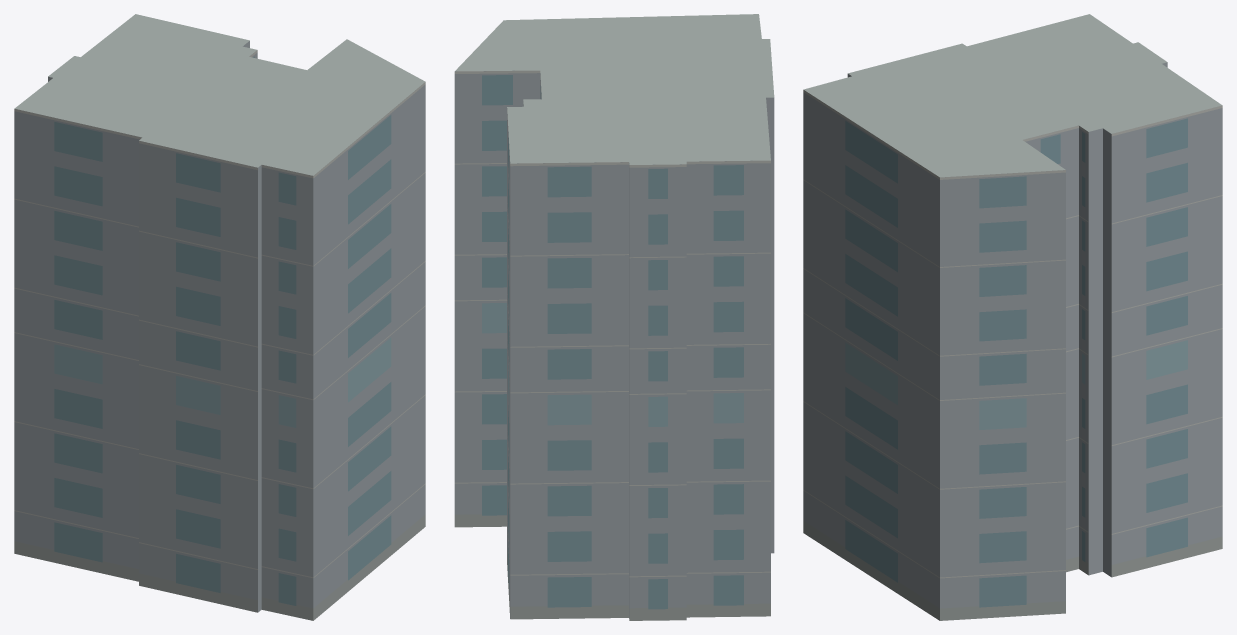
The model's file is survey-upis-32924740.glb.
3 renders of one model, left to right at view 1: azimuth 30°, elevation 25°; view 2: azimuth 150°, elevation 25°; view 3: azimuth 270°, elevation 25°, orthographic. The views are drawn at different scales.
Visible parts, largest first — view 1: survey-upis-32924740.tmp; view 2: survey-upis-32924740.tmp; view 3: survey-upis-32924740.tmp.
Boxes of the visible parts, x1,y1,x2,y2 form: survey-upis-32924740.tmp: [14, 14, 425, 620]; survey-upis-32924740.tmp: [454, 14, 774, 620]; survey-upis-32924740.tmp: [803, 14, 1222, 620].
Size of the model in its own units: 33.42 by 42.25 by 36.22.
